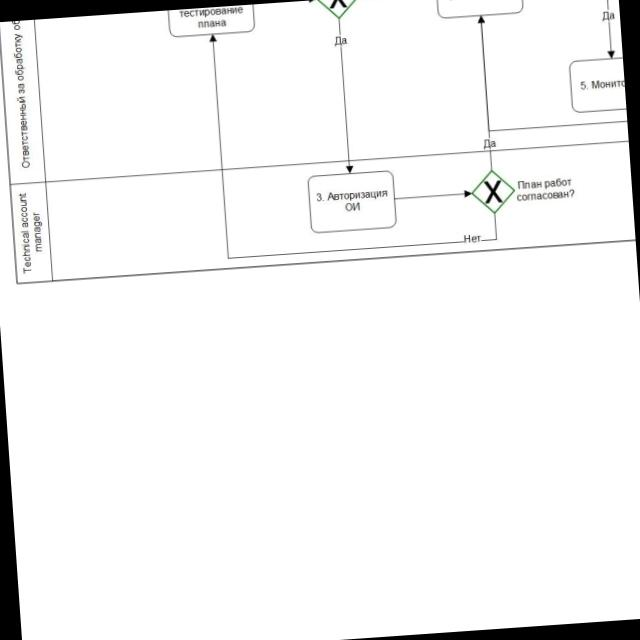arrow: (206, 15, 498, 261), (334, 17, 355, 174), (476, 15, 496, 171), (394, 187, 472, 205), (601, 0, 617, 58)
diamond: (473, 171, 515, 213)
rectangle: (306, 168, 396, 232)
text_region: (514, 174, 576, 203), (461, 232, 481, 246), (332, 34, 350, 48), (480, 137, 498, 150), (601, 8, 617, 22)
